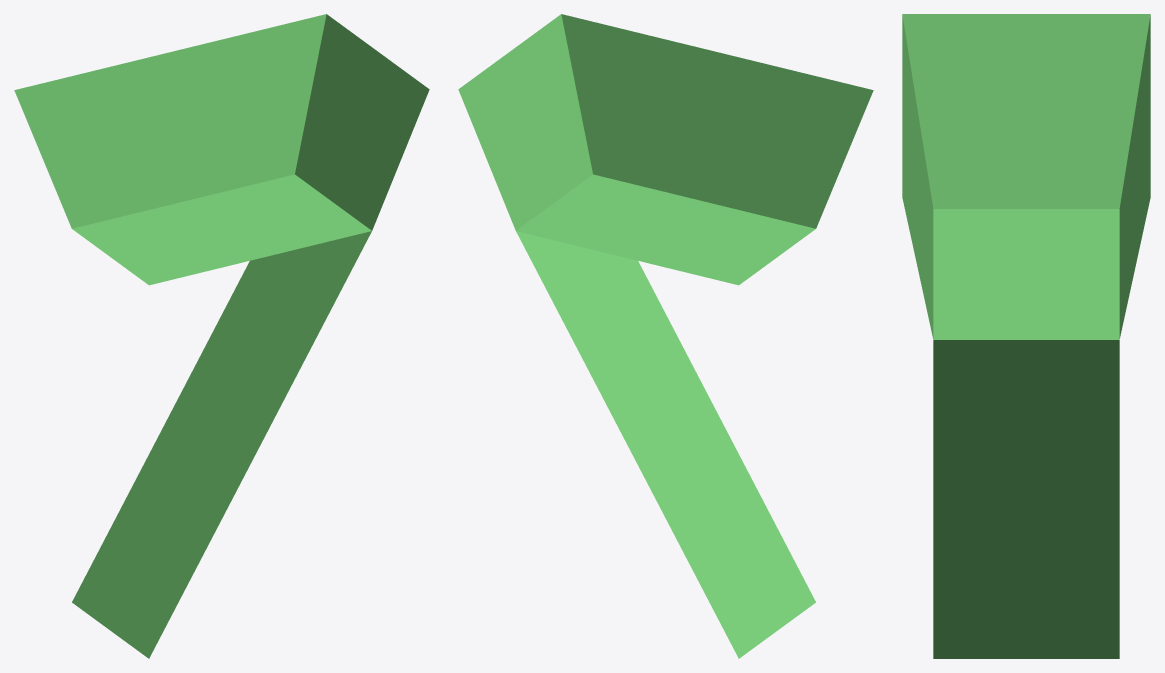
File: shorts.gltf
3 views of the same model, side by side, from view 1: azimuth 30°, elevation 25°; view 2: azimuth 150°, elevation 25°; view 3: azimuth 270°, elevation 25° (orthographic). The views are drawn at different scales.
Parts seen in each view (by area): view 1: Shorts; view 2: Shorts; view 3: Shorts.
Boxes of the visible parts, <box> form: Shorts: <box>14,14,429,658</box>; Shorts: <box>458,14,873,658</box>; Shorts: <box>902,14,1150,658</box>.
Size of the model in its own units: 0.7 by 1.1 by 0.4.
